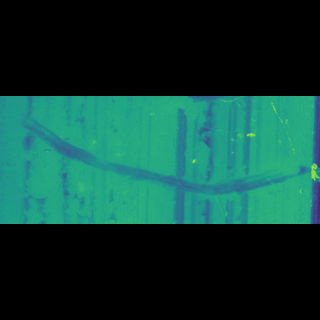Loch: (4, 137, 319, 181)
